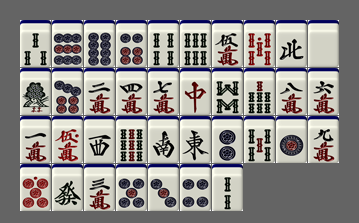0m: (52, 116, 83, 163)
0p: (20, 164, 51, 211)
0s: (244, 20, 275, 67)
1m: (20, 116, 51, 163)
1p: (276, 116, 307, 163)
1s: (20, 68, 51, 115)
1z: (180, 116, 211, 163)
2m: (84, 68, 115, 115)
2p: (212, 116, 243, 163)
2s: (212, 164, 243, 211)
2z: (148, 116, 179, 163)
3m: (84, 164, 115, 211)
3p: (148, 164, 179, 211)
3s: (20, 20, 51, 67)
3z: (84, 116, 115, 163)
4m: (116, 68, 147, 115)
4p: (180, 164, 211, 211)
4s: (148, 20, 179, 67)
4z: (276, 20, 307, 67)
5m: (212, 20, 243, 67)
5p: (116, 164, 147, 211)
5s: (244, 116, 275, 163)
5z: (308, 20, 339, 67)
6m: (308, 68, 339, 115)
6p: (116, 20, 147, 67)
6s: (180, 20, 211, 67)
6z: (52, 164, 83, 211)
7m: (148, 68, 179, 115)
7p: (52, 68, 83, 115)
7s: (244, 68, 275, 115)
7z: (180, 68, 211, 115)
8m: (276, 68, 307, 115)
8p: (84, 20, 115, 67)
8s: (212, 68, 243, 115)
9m: (308, 116, 339, 163)
9p: (52, 20, 83, 67)
9s: (116, 116, 147, 163)
